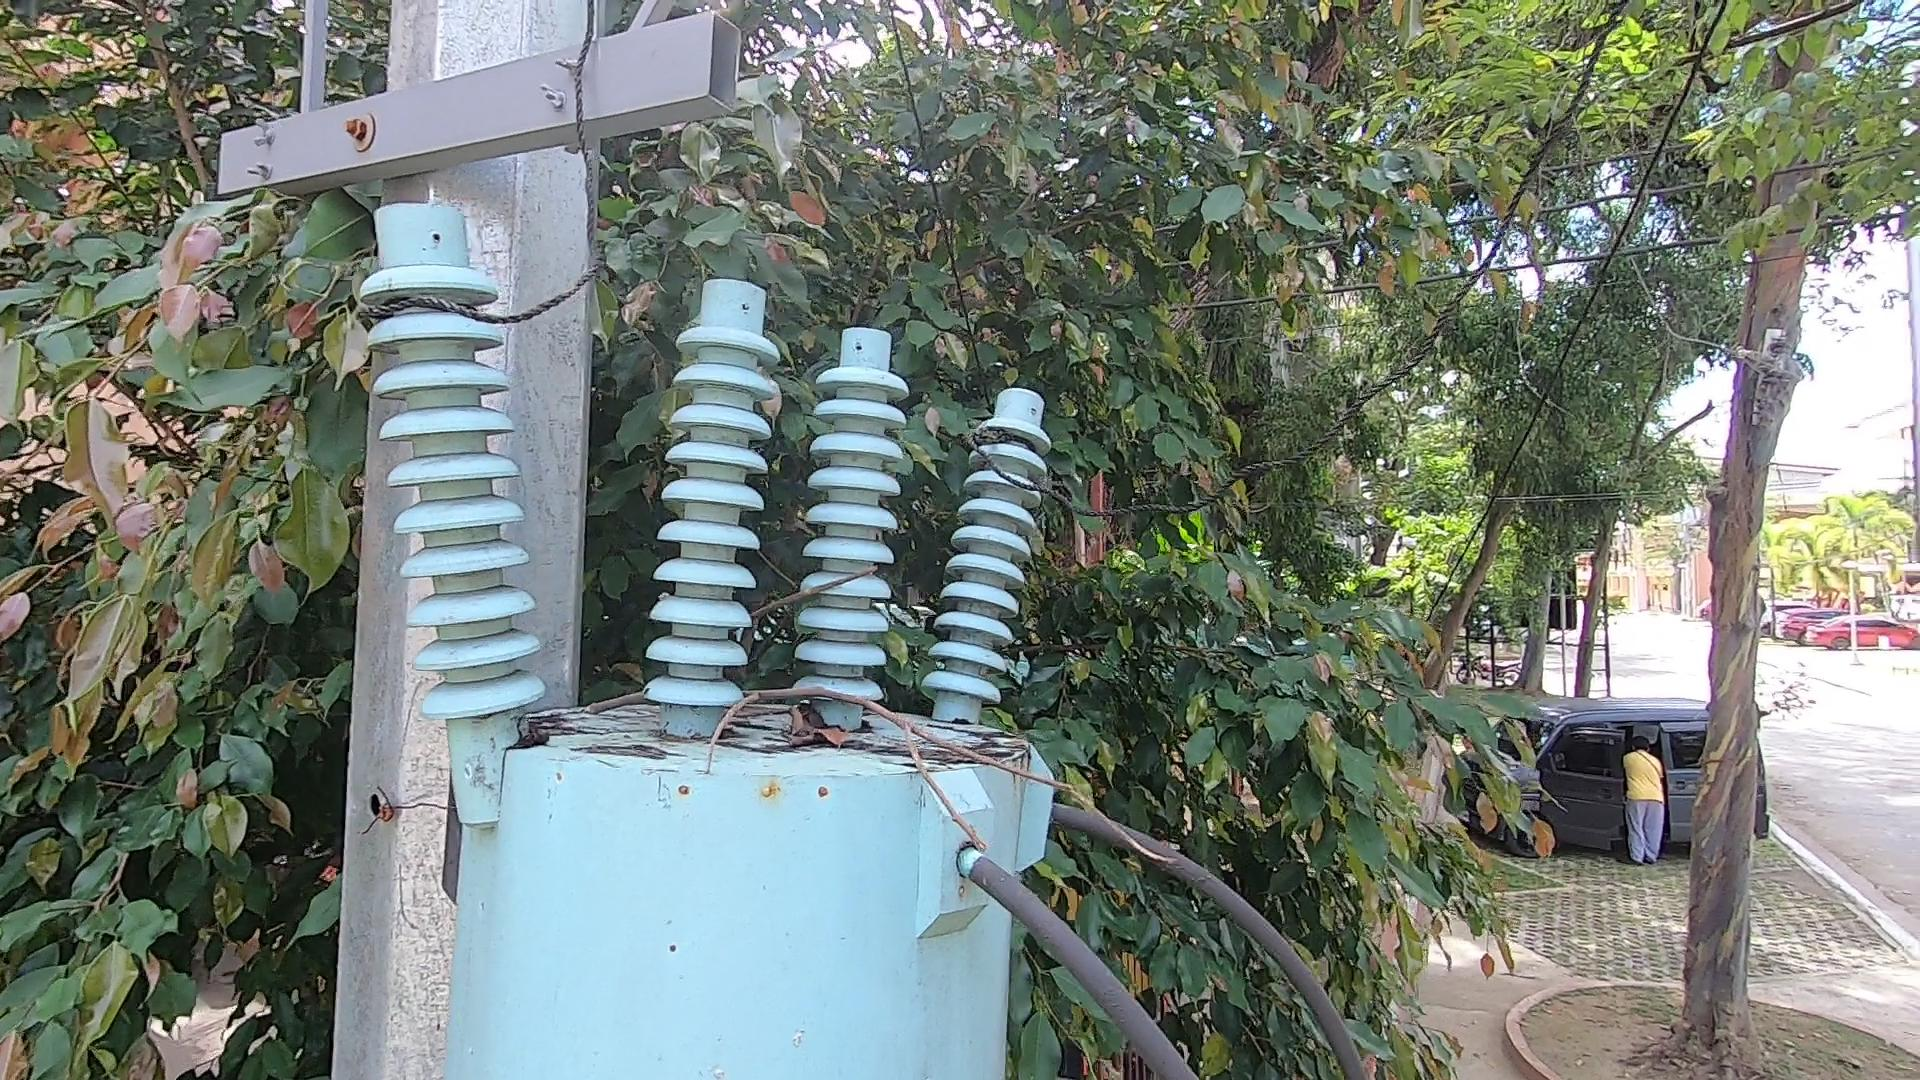leaf: (767, 698, 869, 766), (501, 702, 579, 748)
tree branch: (558, 651, 1176, 884)
